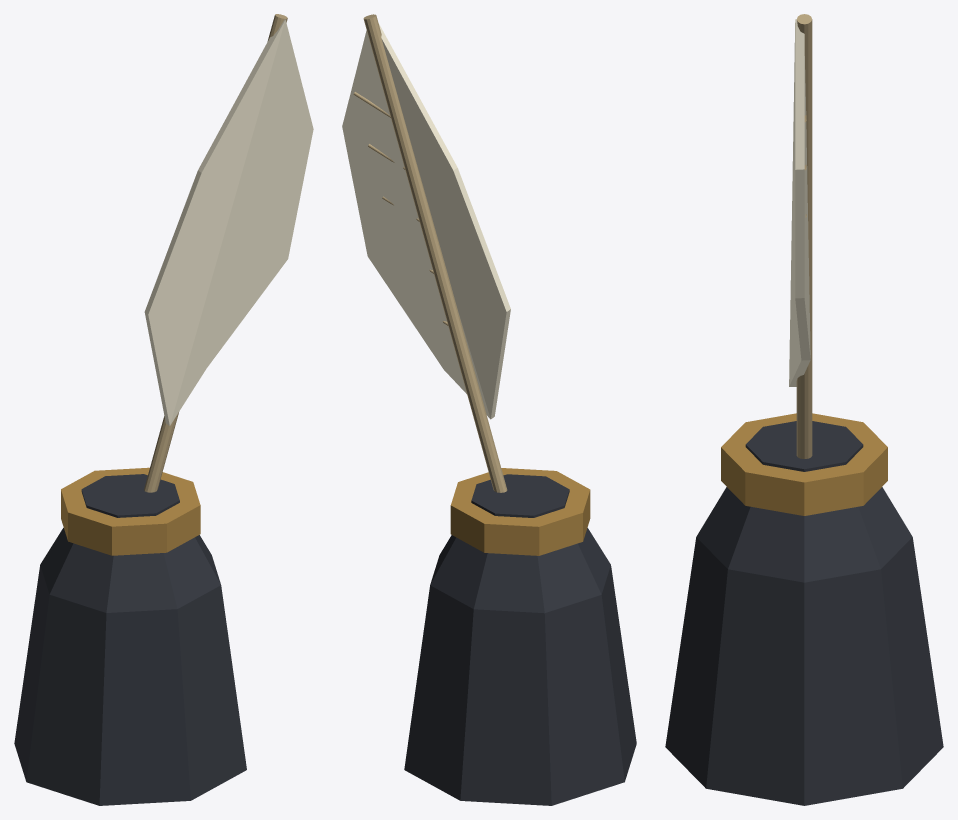
The model's file is court-writing-set.glb.
3 renders of one model, left to right at view 1: azimuth 30°, elevation 25°; view 2: azimuth 150°, elevation 25°; view 3: azimuth 270°, elevation 25°, orthographic. The views are drawn at different scales.
Visible parts, largest first — view 1: court-writing-set; view 2: court-writing-set; view 3: court-writing-set.
Boxes of the visible parts, x1,y1,x2,y2 form: court-writing-set: (14,14,313,805); court-writing-set: (342,14,636,805); court-writing-set: (665,14,943,805).
Bounding box in the file's own units: 0.1222 × 0.2907 × 0.09.
